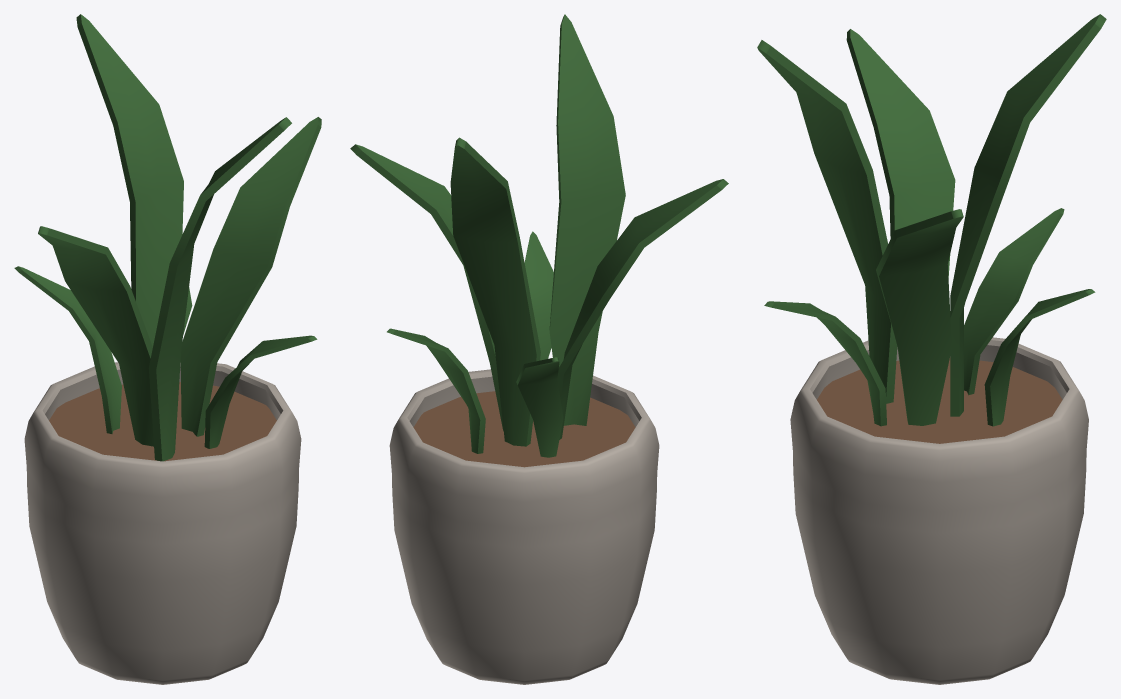
Rendered from Mesh_SnakePlant_02.fbx.
The picture shows the model from 3 angles, left to right: view 1: azimuth 30°, elevation 25°; view 2: azimuth 150°, elevation 25°; view 3: azimuth 270°, elevation 25°; orthographic projection. The views are drawn at different scales.
Parts seen in each view (by area): view 1: Empty_pot2, Snake_plant_leaf1, Snake_plant_leaf, Snake_plant_leaf2, Snake_plant_leaf5, Dirt2, Snake_plant_leaf4, Snake_plant_leaf3; view 2: Empty_pot2, Snake_plant_leaf5, Snake_plant_leaf, Dirt2, Snake_plant_leaf2, Snake_plant_leaf1, Snake_plant_leaf4, Snake_plant_leaf6, Snake_plant_leaf3; view 3: Empty_pot2, Snake_plant_leaf5, Snake_plant_leaf1, Snake_plant_leaf, Snake_plant_leaf2, Dirt2, Snake_plant_leaf4, Snake_plant_leaf6, Snake_plant_leaf3.
Part boxes in pixels (<box>): Empty_pot2: <box>24,362,301,684</box>; Snake_plant_leaf1: <box>180,117,321,436</box>; Snake_plant_leaf: <box>76,14,183,346</box>; Snake_plant_leaf2: <box>38,226,153,446</box>; Snake_plant_leaf5: <box>148,117,291,461</box>; Dirt2: <box>49,382,276,461</box>; Snake_plant_leaf4: <box>14,266,121,433</box>; Snake_plant_leaf3: <box>204,335,317,448</box>; Empty_pot2: <box>389,369,659,684</box>; Snake_plant_leaf5: <box>549,14,625,425</box>; Snake_plant_leaf: <box>450,137,540,446</box>; Dirt2: <box>413,391,635,467</box>; Snake_plant_leaf2: <box>557,179,728,439</box>; Snake_plant_leaf1: <box>350,144,503,430</box>; Snake_plant_leaf4: <box>516,357,563,457</box>; Snake_plant_leaf6: <box>387,328,485,453</box>; Snake_plant_leaf3: <box>524,231,553,360</box>; Empty_pot2: <box>790,337,1088,684</box>; Snake_plant_leaf5: <box>757,40,897,403</box>; Snake_plant_leaf1: <box>876,209,963,425</box>; Snake_plant_leaf: <box>950,14,1106,416</box>; Snake_plant_leaf2: <box>846,29,955,277</box>; Dirt2: <box>817,357,1062,443</box>; Snake_plant_leaf4: <box>964,208,1064,395</box>; Snake_plant_leaf6: <box>984,289,1095,426</box>; Snake_plant_leaf3: <box>764,301,886,426</box>.
Size of the model in its own units: 36.68 by 60.62 by 30.67.
